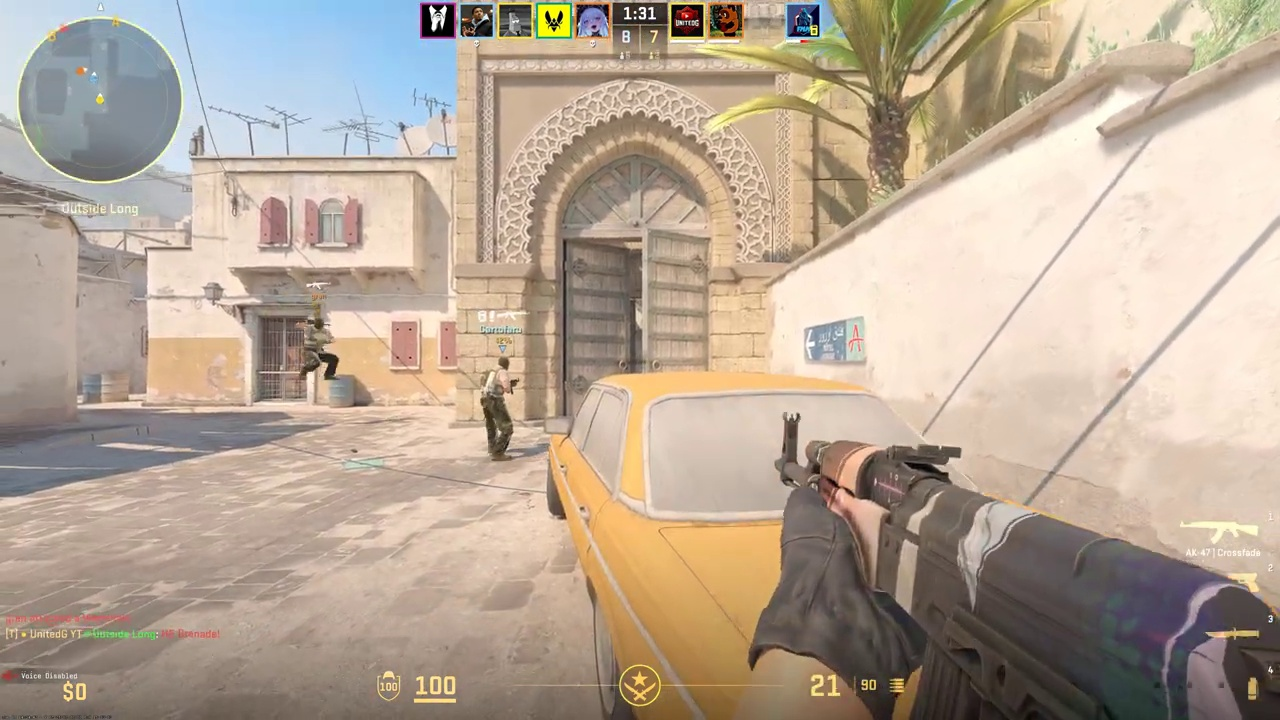Terrorist: (480, 356, 516, 460), (300, 318, 338, 381)
